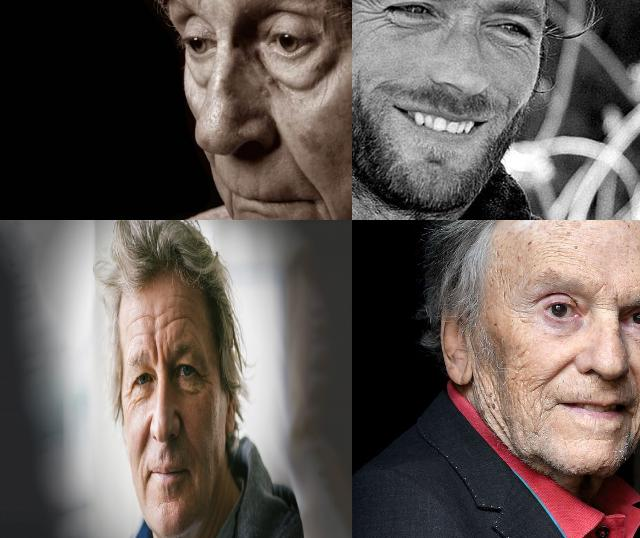crows_feet: (360, 2, 386, 26), (518, 36, 540, 58), (199, 371, 211, 393), (126, 386, 136, 412)
forehead: (542, 228, 574, 268), (160, 302, 193, 331), (131, 308, 154, 338)
frown_line: (594, 286, 620, 314), (151, 338, 168, 370)
gummy_smile: (278, 138, 324, 196), (546, 355, 572, 385), (176, 409, 190, 444), (141, 422, 151, 452)
masseter: (476, 376, 504, 430), (514, 367, 534, 425)
sad_smile: (623, 406, 640, 449), (219, 188, 241, 218), (320, 197, 342, 220)
